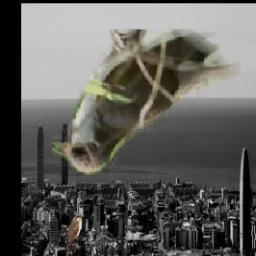Cuckoo: (52, 29, 241, 175), (64, 214, 83, 256)
